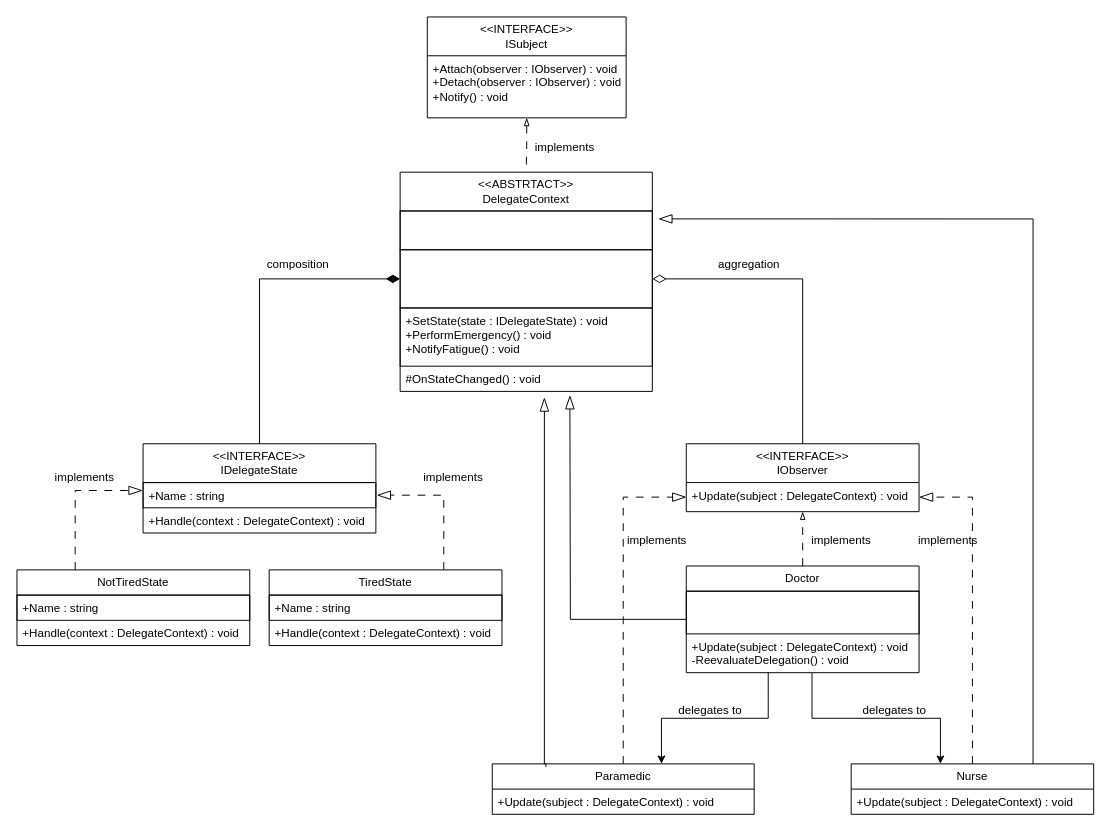
The diagram is 1111 pixels wide and 834 high, and some of its shapes have lost their labels. The centre of each missing label's shape, as x and y in pixels:
"+Name : string +CurrentState : string +HandleEmergency : Action" goes at point (525, 278).
"-_paramedic : DelegateContext -_nurse : DelegateContext" goes at point (802, 612).
"-_state : IDelegateState -_observers : List<IObserver>" goes at point (525, 230).
